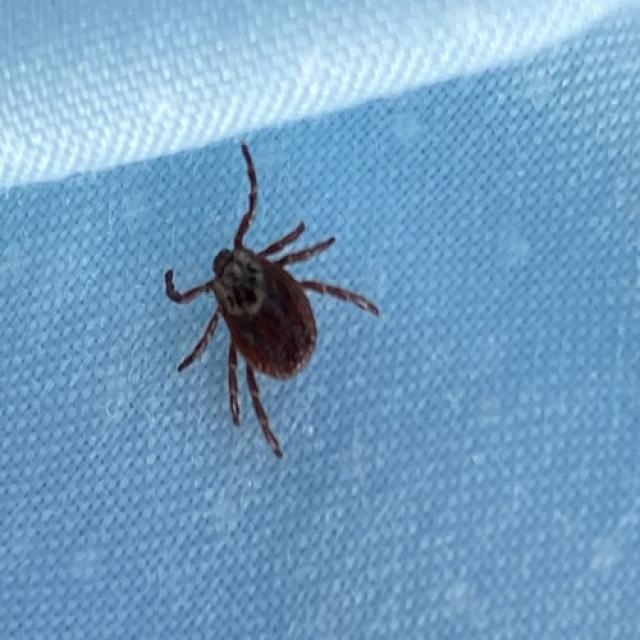Dermacentor Reticulatus-F: (163, 142, 381, 456)
